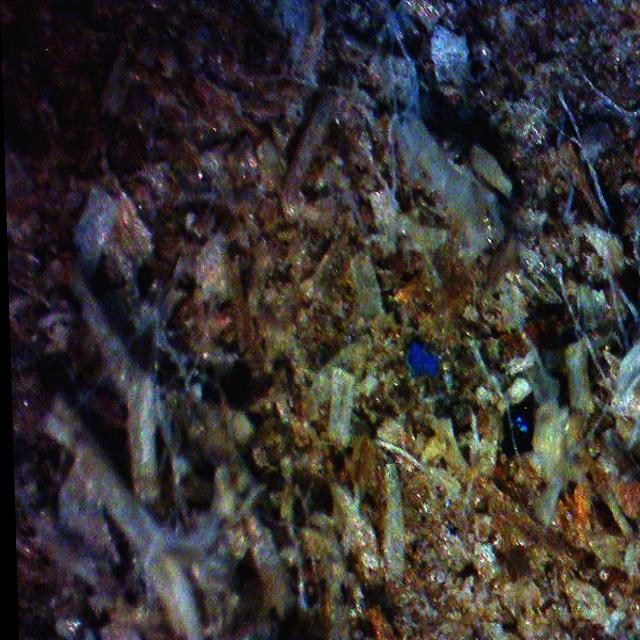microplastic: (404, 338, 437, 379)
